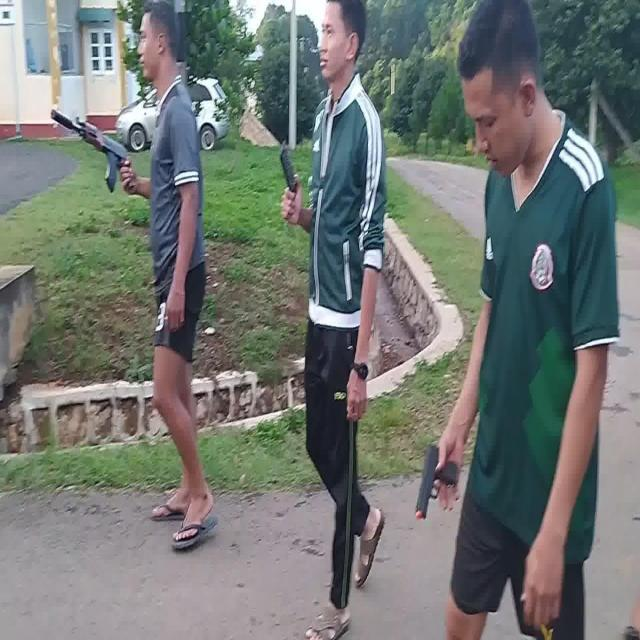gun: (50, 109, 132, 192), (417, 445, 456, 519)
